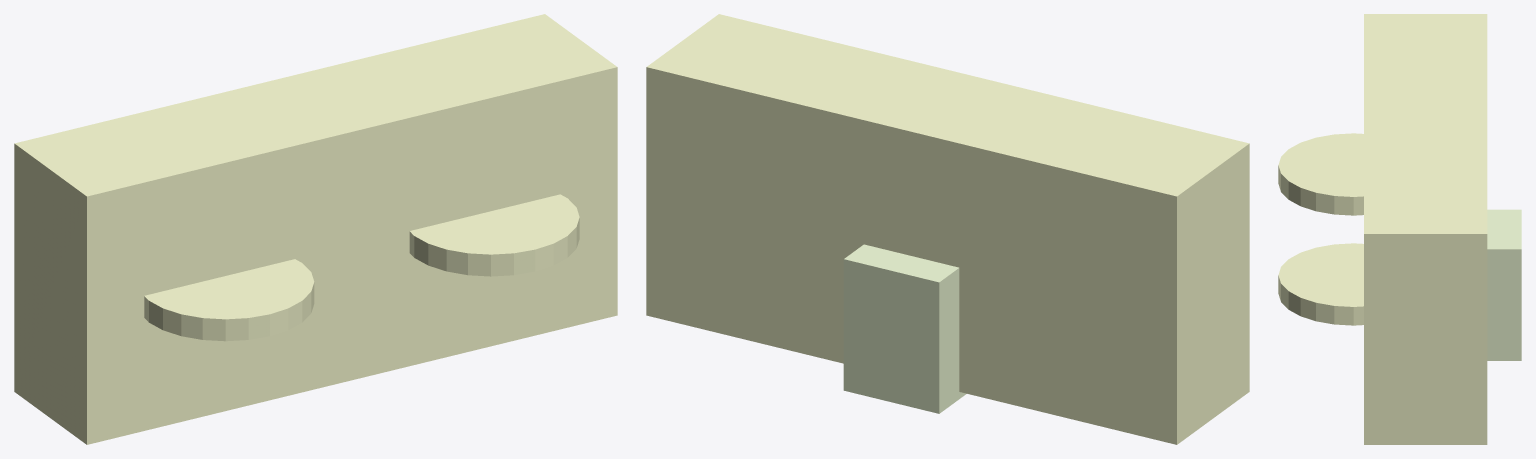
Rendered from signal_preemption_beacon_dual_lunar_horizontal.glb.
3 views of the same model, side by side, from view 1: azimuth 30°, elevation 25°; view 2: azimuth 150°, elevation 25°; view 3: azimuth 270°, elevation 25° (orthographic). The views are drawn at different scales.
Parts seen in each view (by area): view 1: housing, lens_preempt_right, lens_preempt_left; view 2: housing, bracket; view 3: housing, lens_preempt_left, lens_preempt_right, bracket.
Boxes of the visible parts, x1,y1,x2,y2 form: housing: (14, 14, 617, 444); lens_preempt_right: (409, 194, 579, 276); lens_preempt_left: (144, 259, 314, 341); housing: (646, 14, 1249, 444); bracket: (843, 244, 966, 413); housing: (1364, 14, 1487, 444); lens_preempt_left: (1278, 133, 1363, 215); lens_preempt_right: (1278, 243, 1363, 325); bracket: (1487, 209, 1521, 360).
Size of the model in its own units: 0.76 by 0.35 by 0.355.
